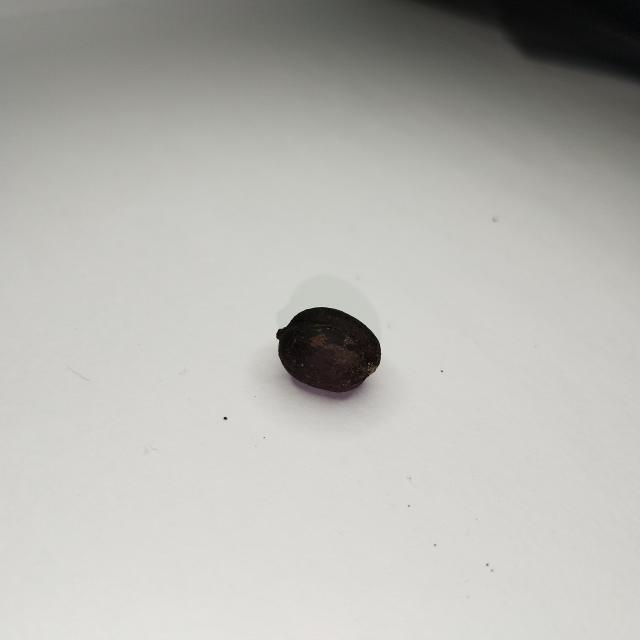Danado: (278, 309, 380, 393)
